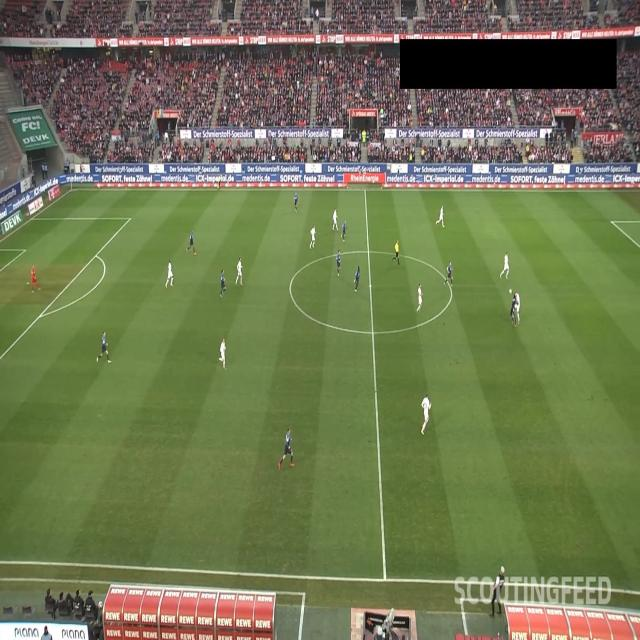ball: (509, 288, 512, 294)
